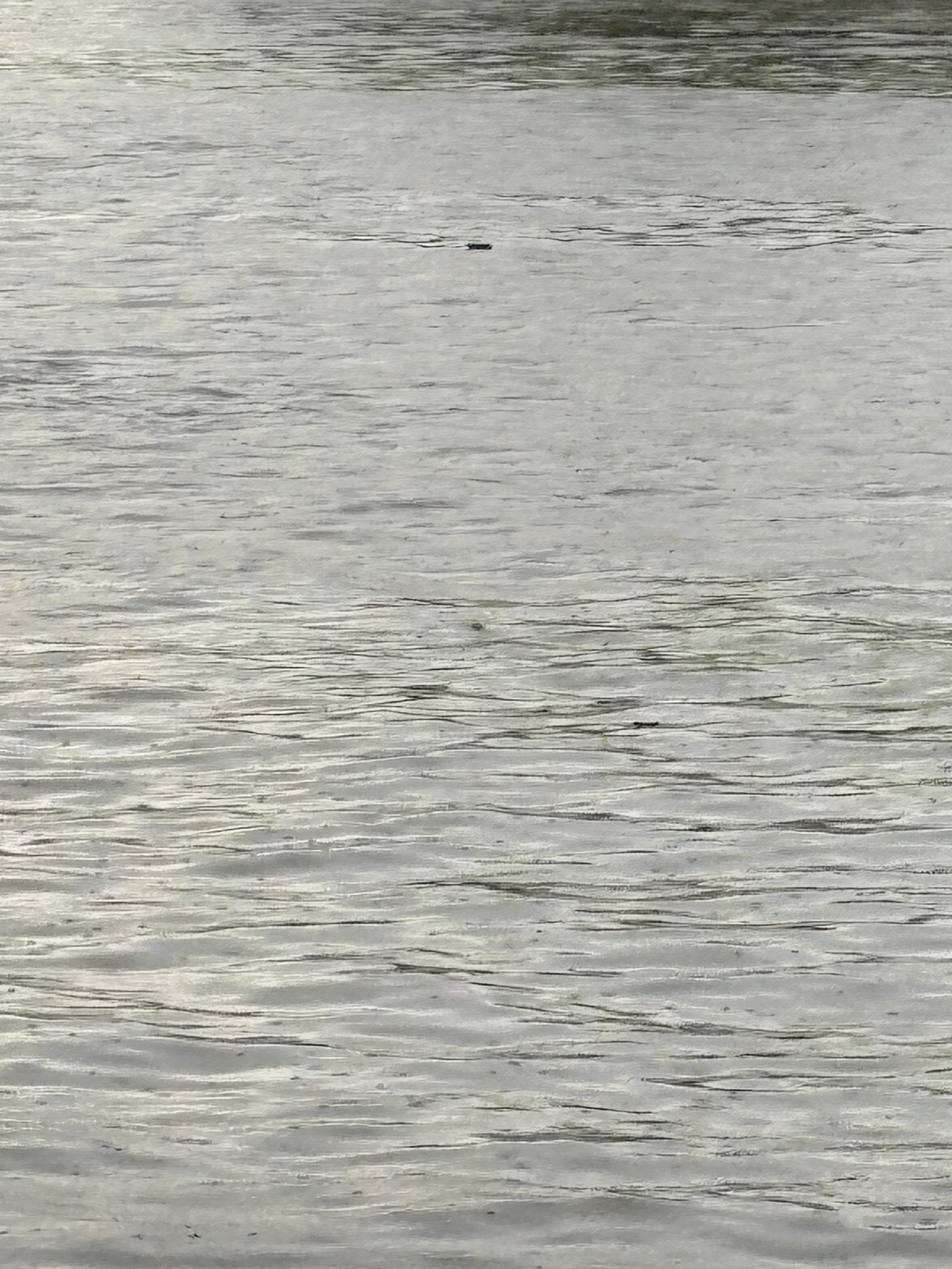Natural wastes: (177, 610, 190, 647)
